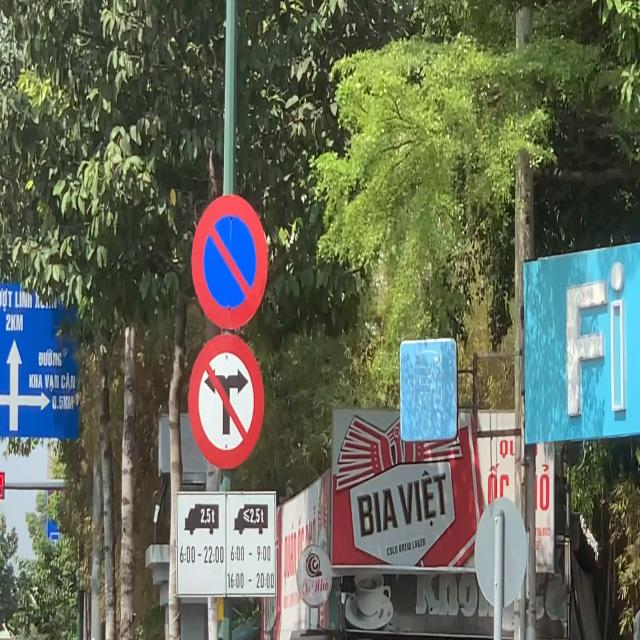Cam con lai: (182, 329, 275, 472)
Cam do: (187, 185, 271, 337)
